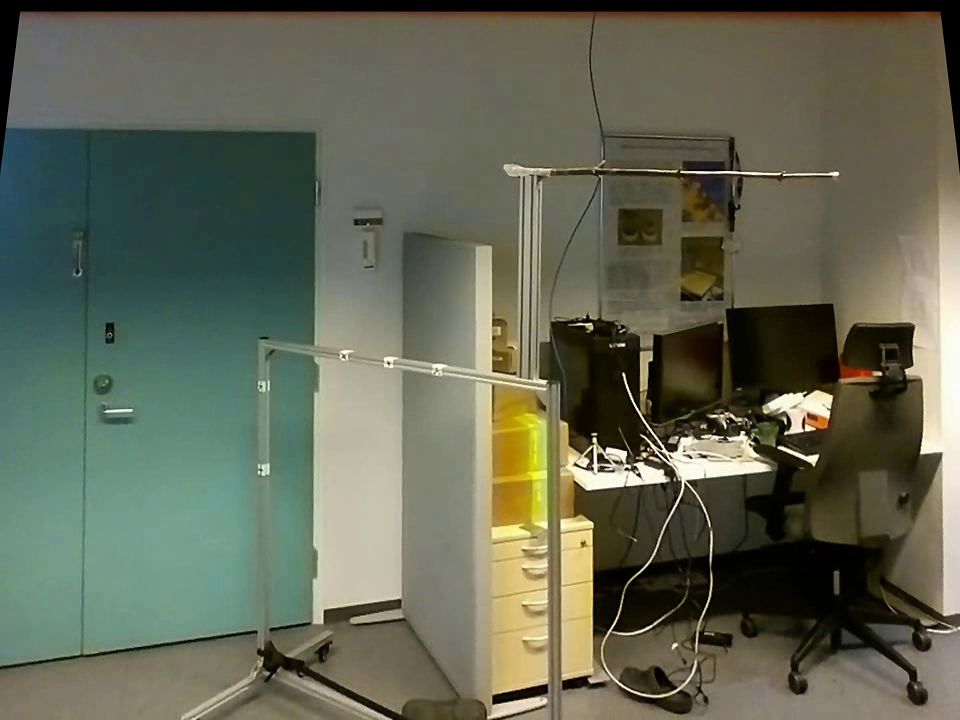aluminum_frame: (261, 331, 542, 392), (183, 627, 339, 718), (541, 376, 567, 717), (274, 660, 387, 719), (252, 329, 272, 657), (516, 173, 546, 385)
branch: (555, 155, 822, 188)
